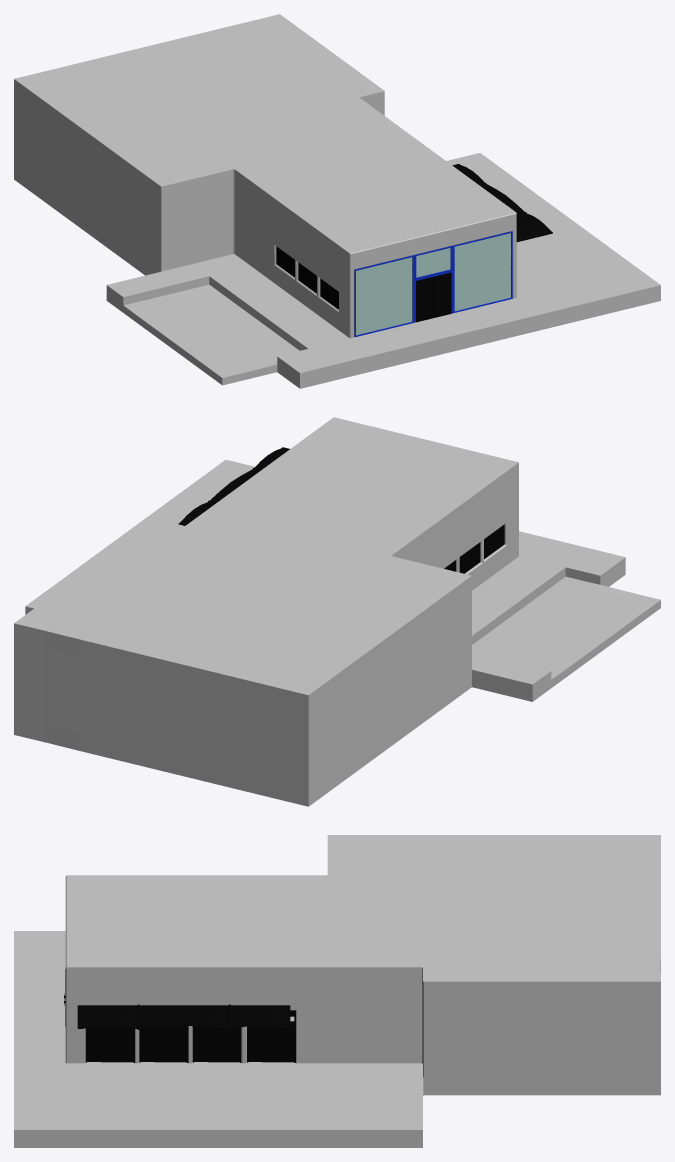
File: buildingtextr.fbx
3 renders of one model, top to bottom at view 1: azimuth 30°, elevation 25°; view 2: azimuth 150°, elevation 25°; view 3: azimuth 270°, elevation 25°, orthographic. The views are drawn at different scales.
Parts seen in each view (by area): view 1: Building, FrontWall1, Roof, FrontDoor_R, FrontDoor_L; view 2: Building, Roof; view 3: Building, GlassWall_S_Window (×3), Roof, GlassWall_S_Window1.
Boxes of the visible parts, <box> form: Building: <box>14,14,660,388</box>; FrontWall1: <box>354,231,512,337</box>; Roof: <box>452,164,552,242</box>; FrontDoor_R: <box>433,272,451,317</box>; FrontDoor_L: <box>416,276,433,322</box>; Building: <box>14,417,660,806</box>; Roof: <box>178,447,289,525</box>; Building: <box>14,835,660,1147</box>; GlassWall_S_Window (×3): <box>139,1010,295,1062</box>; Roof: <box>77,1004,290,1029</box>; GlassWall_S_Window1: <box>85,1026,134,1062</box>.
Bounding box in the file's own units: 2279 × 527 × 2718.
